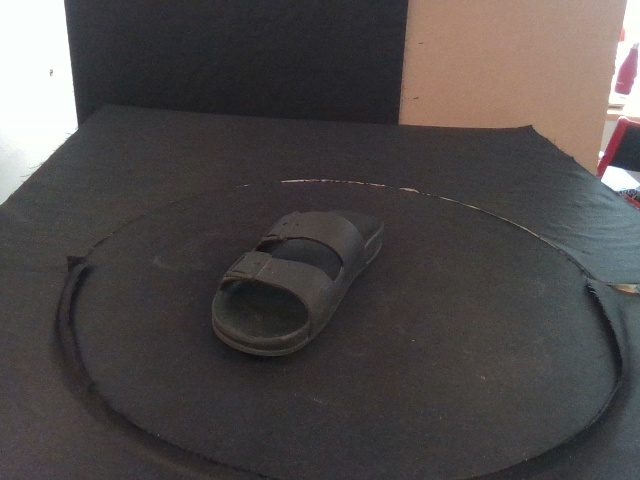shoe: (209, 209, 384, 355)
